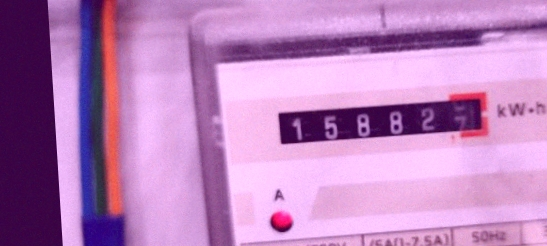1: (289, 116, 305, 141)
2: (419, 106, 435, 130)
5: (321, 113, 339, 140)
7: (452, 112, 467, 131)
8: (354, 112, 372, 138), (387, 109, 403, 134)
screen: (262, 83, 498, 160)
